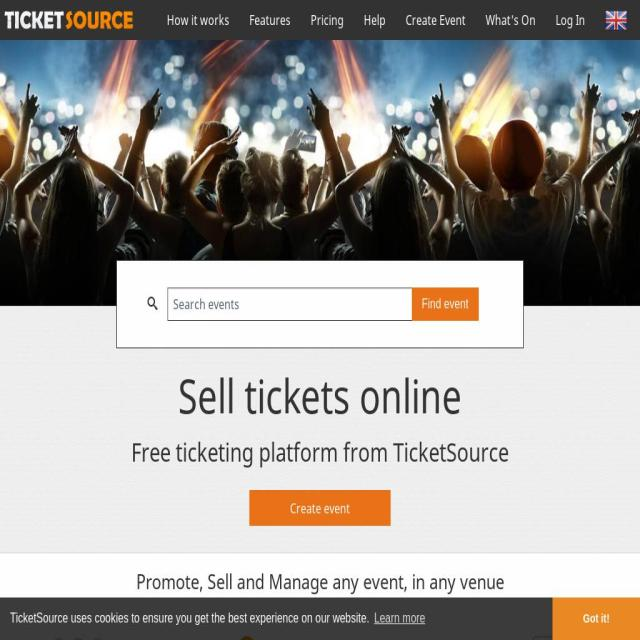button: (250, 490, 390, 527), (552, 596, 639, 640), (157, 0, 239, 40), (396, 0, 476, 40), (476, 0, 546, 40), (240, 0, 300, 40), (411, 287, 479, 321), (301, 0, 354, 40), (546, 0, 595, 40), (354, 0, 396, 40), (372, 606, 427, 632), (595, 8, 640, 32)
field: (167, 287, 412, 321)
heading: (9, 362, 630, 428), (9, 434, 630, 470), (9, 566, 630, 596)
image: (0, 8, 138, 32), (44, 622, 116, 640), (204, 622, 276, 640), (364, 622, 436, 640), (524, 622, 596, 640), (605, 9, 627, 31)
text: (0, 0, 640, 306), (10, 611, 372, 626), (147, 297, 167, 310)
